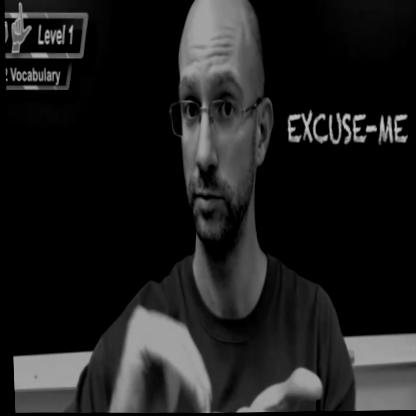ExcuseMe: (80, 286, 326, 415)
